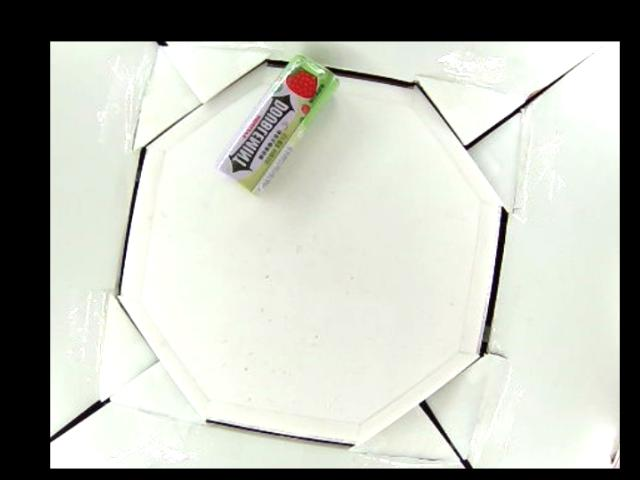Bottle: (215, 53, 335, 195)
